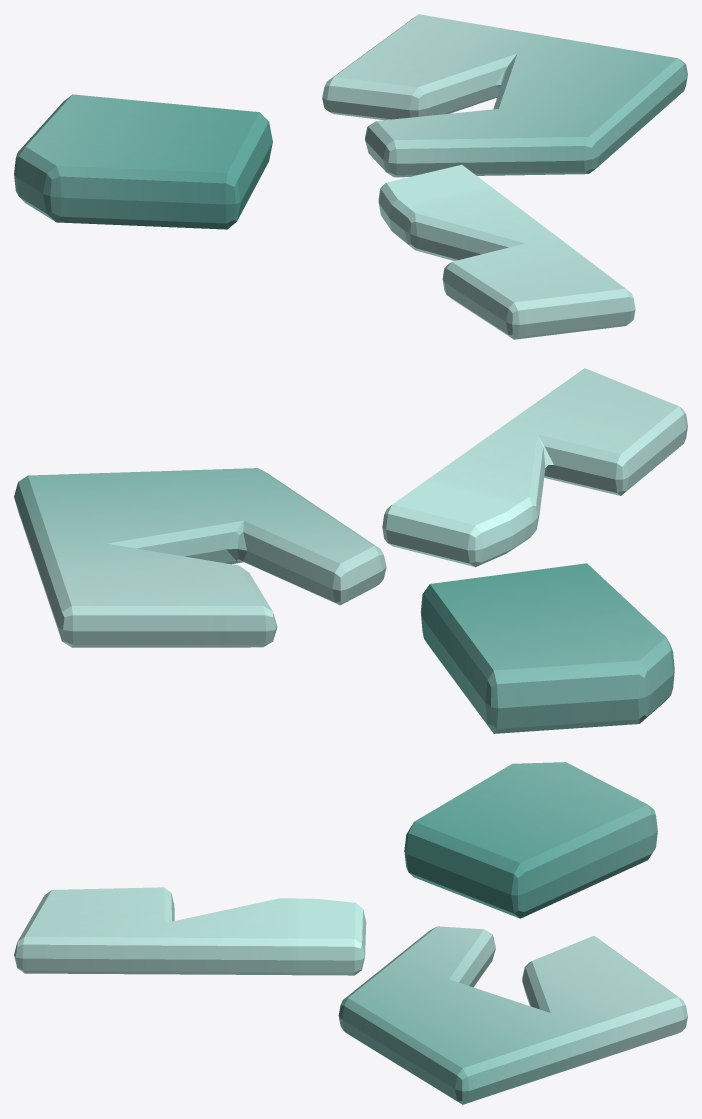
The model's file is Mod_Glassbreak_04.fbx.
3 views of the same model, one above another, from view 1: azimuth 30°, elevation 25°; view 2: azimuth 150°, elevation 25°; view 3: azimuth 270°, elevation 25° (orthographic). The views are drawn at different scales.
Visible parts, largest first — view 1: Mod_Glassbreak_04; view 2: Mod_Glassbreak_04; view 3: Mod_Glassbreak_04.
Part boxes in pixels (x1,y1,x2,y2): Mod_Glassbreak_04: [14, 14, 687, 339]; Mod_Glassbreak_04: [14, 368, 687, 733]; Mod_Glassbreak_04: [14, 762, 687, 1104].
Size of the model in its own units: 74.87 by 6.58 by 71.91.
